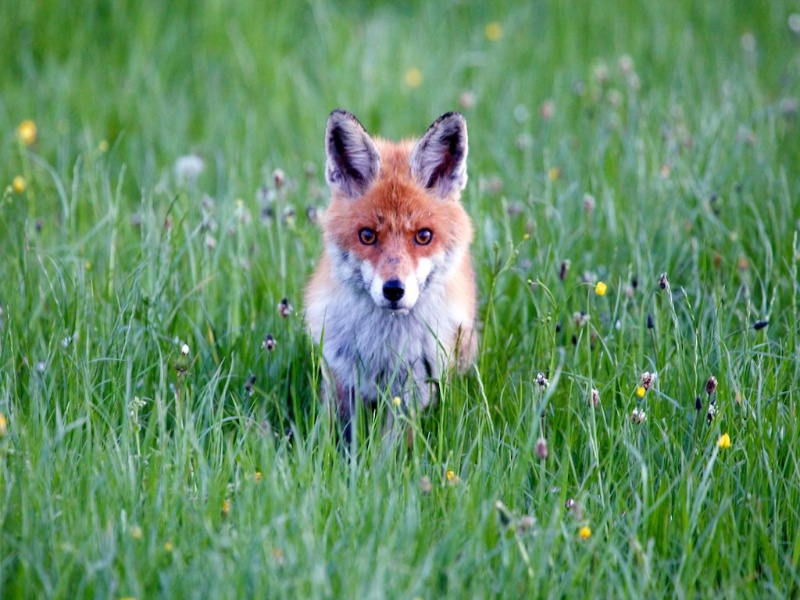fox: (289, 105, 491, 455)
